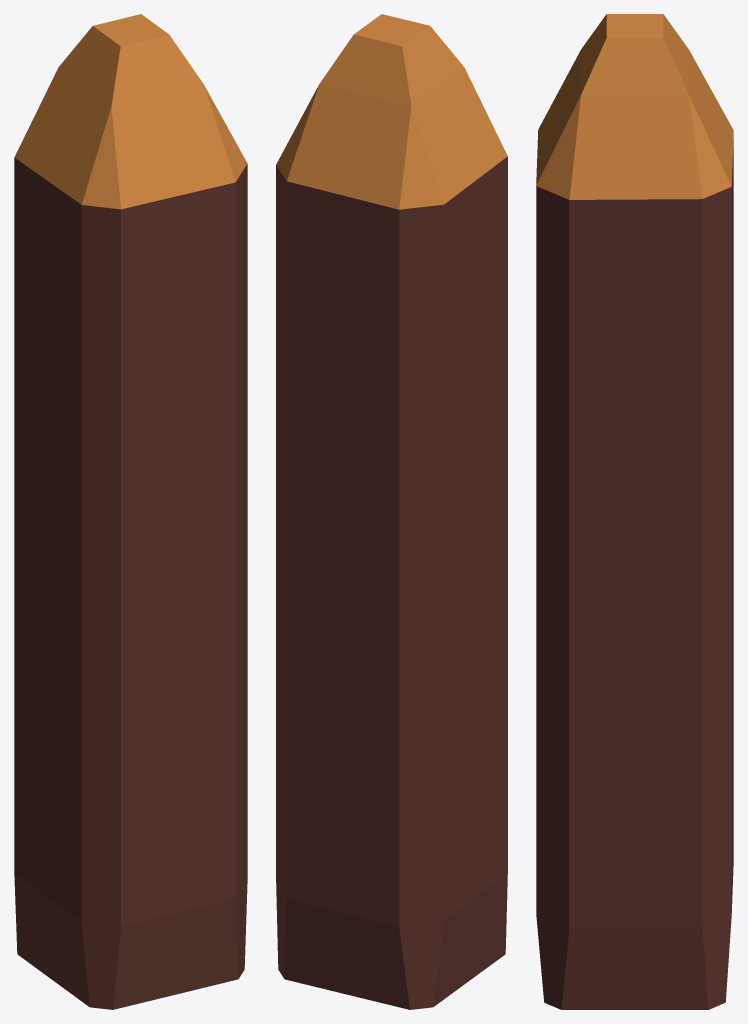
Rendered from pillar.fbx.
The picture shows the model from 3 angles, left to right: view 1: azimuth 30°, elevation 25°; view 2: azimuth 150°, elevation 25°; view 3: azimuth 270°, elevation 25°; orthographic projection.
Parts seen in each view (by area): view 1: Cube.002; view 2: Cube.002; view 3: Cube.002.
Part boxes in pixels (x1,y1,x2,y2): Cube.002: [14, 14, 247, 1009]; Cube.002: [276, 14, 507, 1009]; Cube.002: [536, 14, 733, 1009].
Size of the model in its own units: 43.58 by 230 by 43.58.
